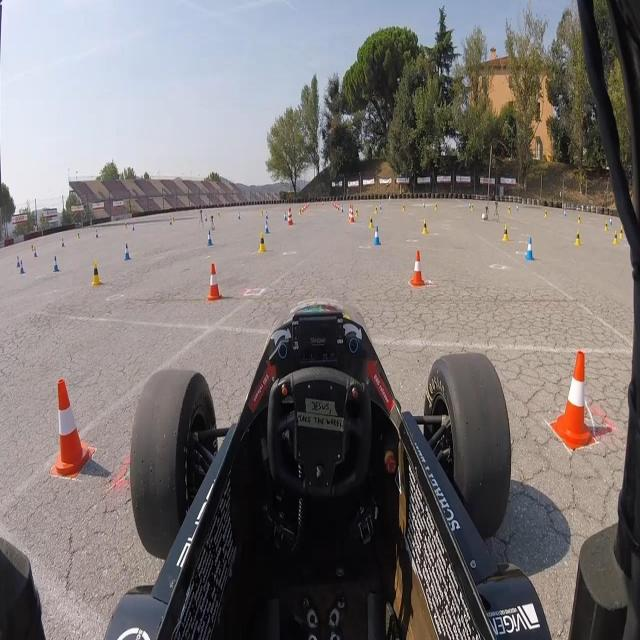blue_cone: (525, 236, 535, 260), (373, 227, 381, 246), (53, 255, 60, 273), (125, 241, 131, 261), (207, 230, 213, 247), (19, 260, 25, 276), (16, 257, 21, 269), (265, 222, 269, 234), (33, 248, 37, 260), (516, 204, 520, 213), (61, 239, 65, 248), (340, 204, 344, 212), (379, 202, 382, 212), (265, 211, 268, 221), (132, 223, 135, 232), (284, 212, 287, 220), (205, 213, 208, 221), (564, 210, 567, 217), (96, 229, 98, 238), (610, 218, 612, 226), (468, 202, 470, 210), (238, 212, 240, 219), (170, 218, 172, 225)
large_orange_cone: (349, 205, 355, 224), (289, 206, 294, 224), (349, 204, 353, 222), (288, 208, 292, 226)
orange_cone: (52, 374, 96, 479), (554, 352, 598, 449), (206, 262, 224, 302), (409, 247, 426, 286), (338, 204, 340, 212), (302, 206, 304, 214), (336, 203, 338, 210), (304, 205, 306, 212)
yellow_cone: (92, 262, 101, 286), (258, 232, 266, 253), (574, 228, 582, 246), (502, 224, 509, 241), (421, 220, 428, 234), (368, 215, 374, 229), (612, 230, 618, 244), (604, 221, 609, 233), (355, 207, 360, 218), (620, 227, 624, 239), (577, 214, 581, 224), (544, 209, 548, 219), (124, 222, 128, 230), (298, 207, 302, 215), (402, 204, 406, 212), (434, 204, 438, 212), (30, 244, 34, 252), (375, 204, 378, 213), (508, 205, 511, 214), (260, 209, 263, 217), (471, 203, 474, 211), (218, 212, 221, 218), (78, 233, 80, 240), (173, 216, 175, 223)
